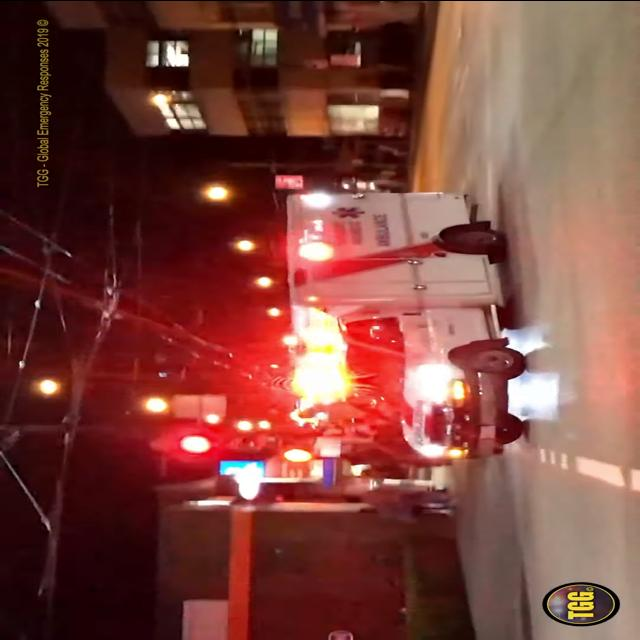emergency-vehicles: (286, 151, 522, 482)
